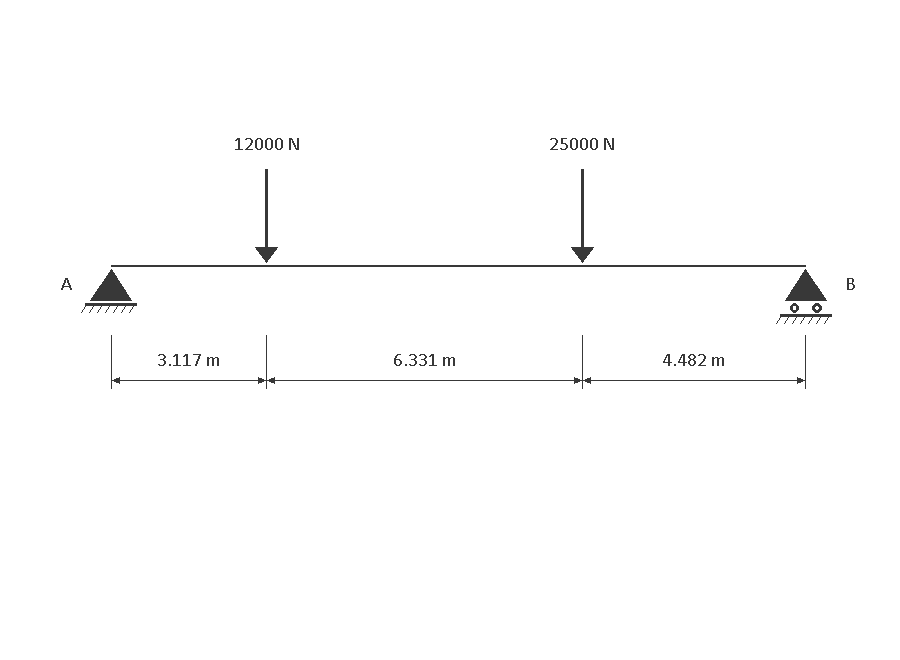pin_support: (81, 269, 137, 313)
point_load: (255, 169, 278, 263), (571, 169, 594, 263)
roller_support: (776, 269, 832, 324)
